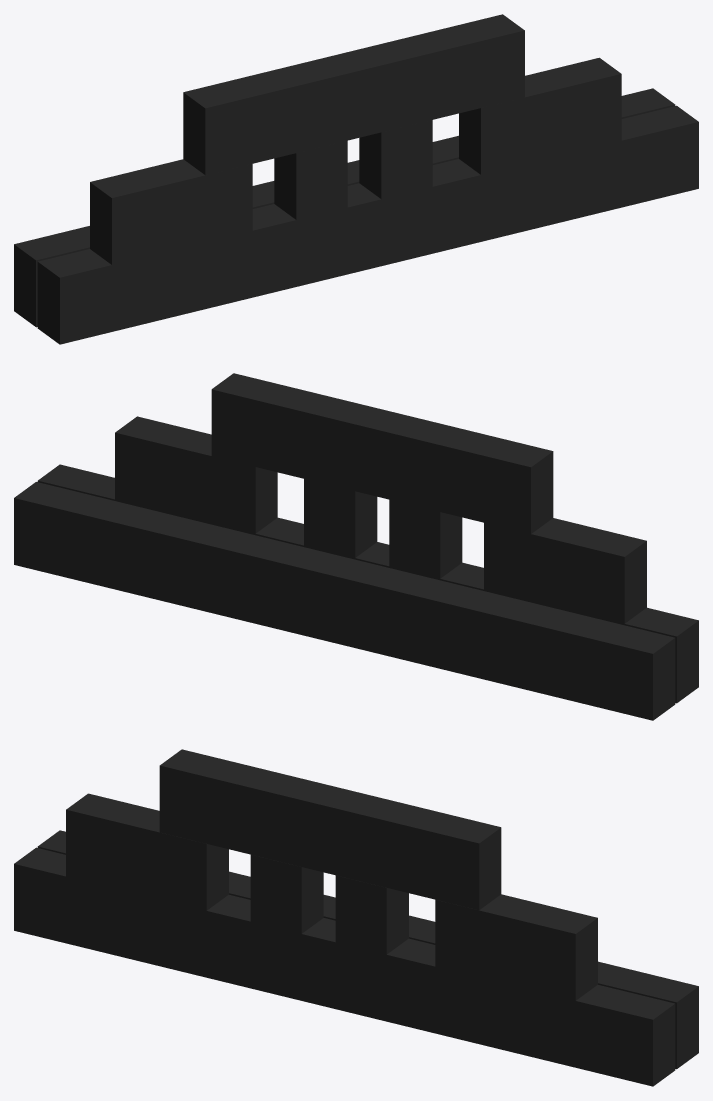
File: Static_0_5friction.fbx
The picture shows the model from 3 angles, top to bottom: view 1: azimuth 30°, elevation 25°; view 2: azimuth 150°, elevation 25°; view 3: azimuth 330°, elevation 25°; orthographic projection.
Parts seen in each view (by area): view 1: D1DynamicBox9, D1DynamicBox10, D1DynamicBox12, D1DynamicBox8, D1DynamicBox7, D1DynamicBox11, D1DynamicBox13; view 2: D1DynamicBox7, D1DynamicBox10, D1DynamicBox12, D1DynamicBox8, D1DynamicBox9, D1DynamicBox13, D1DynamicBox11; view 3: D1DynamicBox9, D1DynamicBox10, D1DynamicBox8, D1DynamicBox12, D1DynamicBox7, D1DynamicBox11, D1DynamicBox13.
Part boxes in pixels (<box>): D1DynamicBox9: <box>37,105,698,344</box>; D1DynamicBox10: <box>183,14,524,175</box>; D1DynamicBox12: <box>90,159,252,264</box>; D1DynamicBox8: <box>459,57,621,174</box>; D1DynamicBox7: <box>14,88,675,327</box>; D1DynamicBox11: <box>359,120,432,199</box>; D1DynamicBox13: <box>274,140,347,219</box>; D1DynamicBox7: <box>14,482,675,720</box>; D1DynamicBox10: <box>211,373,553,533</box>; D1DynamicBox12: <box>484,518,646,623</box>; D1DynamicBox8: <box>115,416,277,533</box>; D1DynamicBox9: <box>37,464,698,703</box>; D1DynamicBox13: <box>389,499,462,578</box>; D1DynamicBox11: <box>304,479,377,557</box>; D1DynamicBox9: <box>14,847,675,1086</box>; D1DynamicBox10: <box>159,749,501,910</box>; D1DynamicBox8: <box>435,894,597,1000</box>; D1DynamicBox12: <box>66,793,228,910</box>; D1DynamicBox7: <box>37,830,698,1069</box>; D1DynamicBox11: <box>335,875,408,954</box>; D1DynamicBox13: <box>250,854,323,933</box>.
Size of what is drawn, in the model's own units: 50 by 15 by 6.22.
